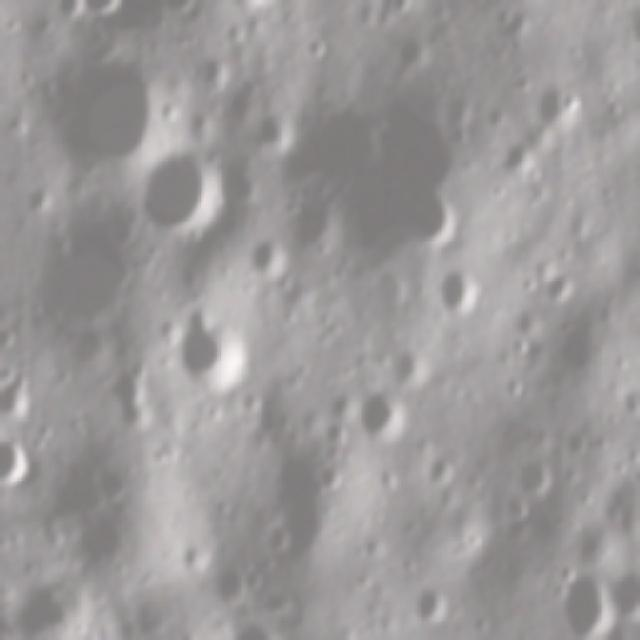crater: (288, 108, 472, 267), (34, 51, 174, 172), (36, 212, 158, 338), (127, 146, 233, 246), (174, 312, 258, 399), (552, 558, 620, 638), (352, 385, 412, 452), (426, 264, 486, 328), (405, 190, 463, 256), (116, 360, 162, 426), (528, 81, 578, 134), (534, 255, 580, 312), (509, 451, 556, 506), (396, 22, 441, 78), (0, 434, 37, 500), (216, 160, 266, 208), (226, 69, 266, 129), (388, 337, 434, 388), (254, 104, 300, 154), (497, 138, 543, 187), (440, 89, 485, 138), (409, 584, 458, 627), (603, 568, 640, 624), (0, 366, 35, 423), (418, 452, 460, 496), (206, 561, 246, 607), (247, 232, 293, 271), (263, 516, 300, 564), (368, 262, 408, 306), (508, 303, 546, 339), (195, 52, 230, 90), (74, 0, 128, 23), (318, 418, 354, 452), (158, 0, 205, 26), (312, 456, 342, 496), (227, 0, 287, 17), (615, 379, 640, 419), (52, 0, 86, 28), (302, 32, 332, 62), (506, 327, 534, 358), (0, 312, 22, 348)
